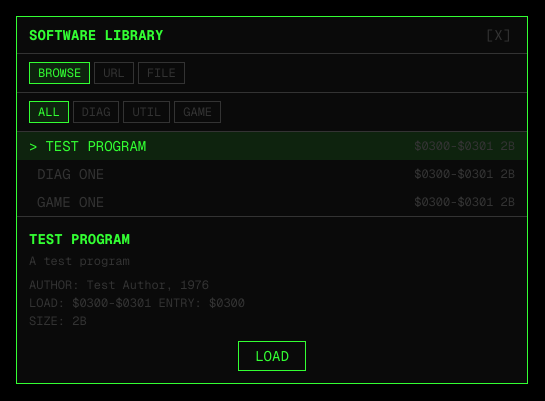
Scenario: SoftwareLibraryModal › browse tab - category filtering › filters by DIAG category
Click the button "DIAG" at (96, 112), box [73,101,119,123]
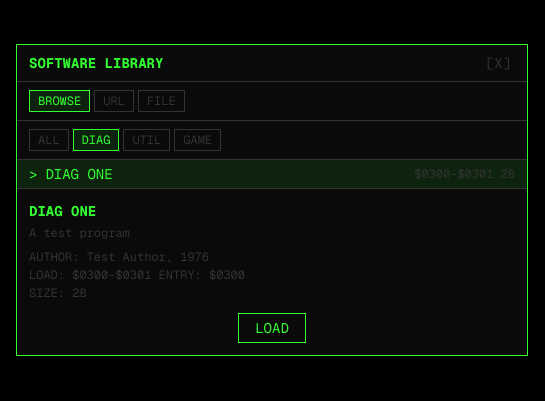
Check: the button "GAME ONE" is gone
